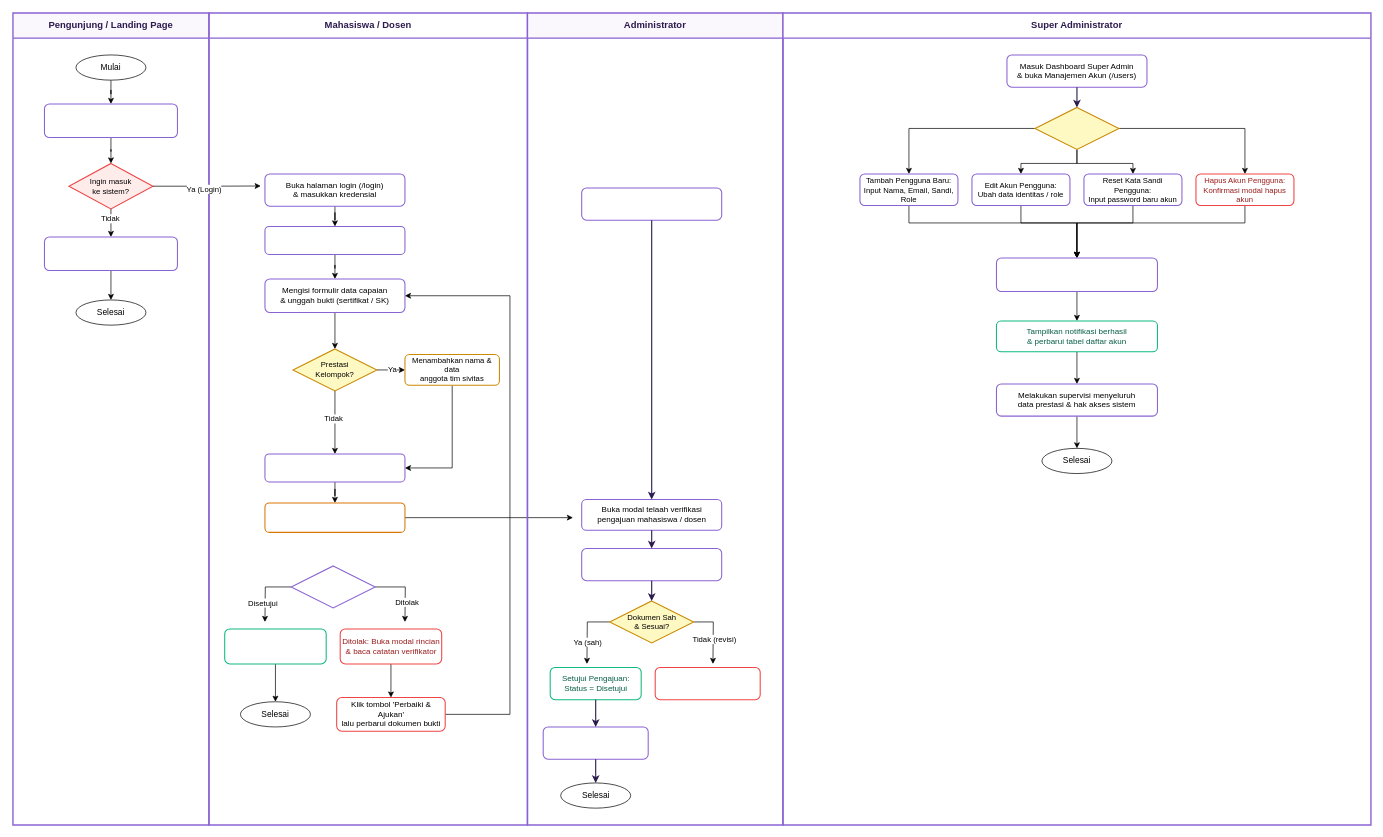
Image size: 1383x837. Some labels were removed from this diagram. Each missing label, with the centre of its shape:
Disetujui: Prestasi sah & tampil di portofolio publik: (x=275, y=646)
Hasil Telaah Verifikator?: (x=332, y=586)
Konfirmasi modal kirim pengajuan: (x=334, y=467)
Masuk Dashboard Admin & pantau antrean verifikasi: (x=651, y=203)
Masuk Dashboard Mahasiswa / Dosen: (x=334, y=240)
Membuka website SIPRESKA & membaca info prestasi: (x=111, y=120)
Mengekspor laporan rekapitulasi prestasi (Excel / Cetak): (x=595, y=742)
Menjelajahi katalog prestasi, statistik, dan panduan: (x=111, y=253)
Periksa keabsahan bukti sertifikat, SK, tingkat, dan keaktifan tim: (x=651, y=564)
Pilih Aksi Kelola Akun?: (x=1076, y=128)
Sistem memvalidasi keunikan data & memperbarui basis data pengguna: (x=1077, y=274)
Status Pengajuan: Menunggu Verifikasi: (x=334, y=517)
Tolak Pengajuan & wajib tulis catatan alasan penolakan: (x=707, y=683)
